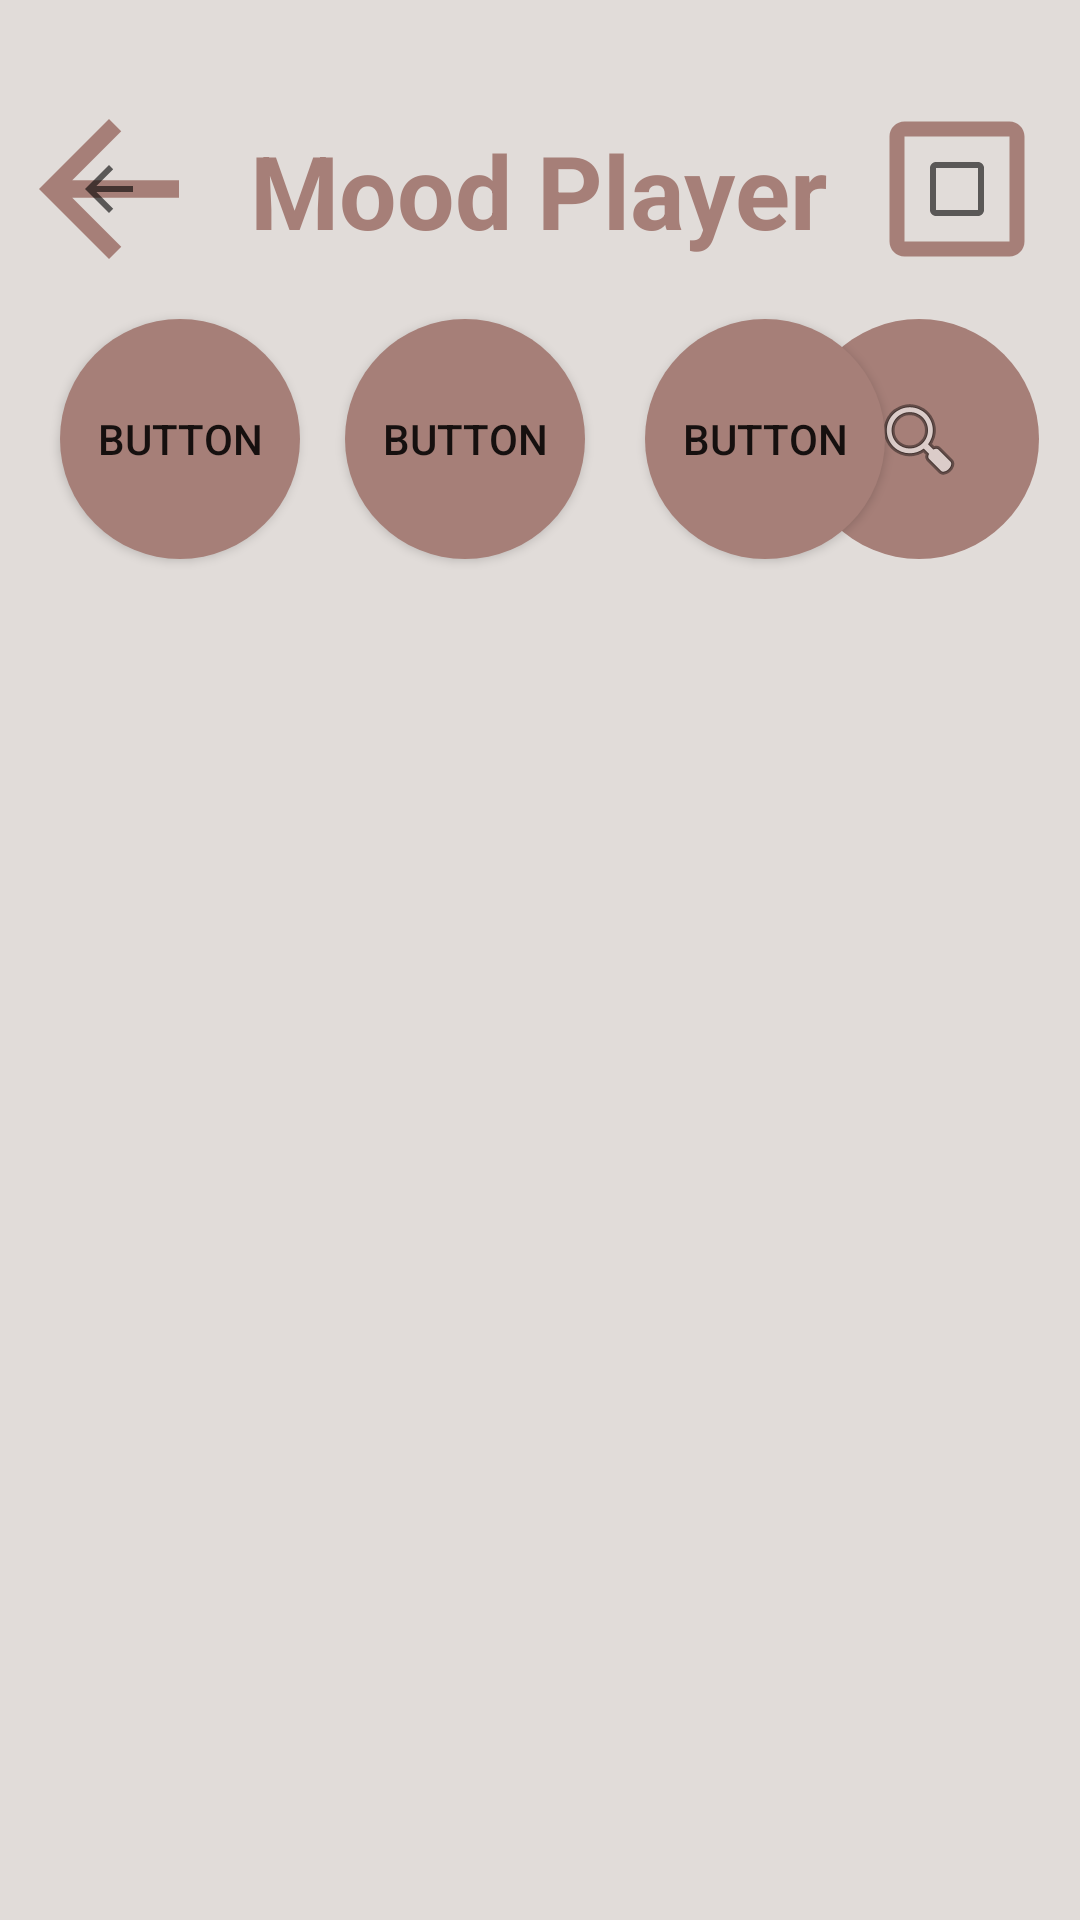

Screen size 1080 x 1920. Icon name, then its box in pixels as [x1, y1, x2, y2]:
search: [799, 319, 1039, 559]
